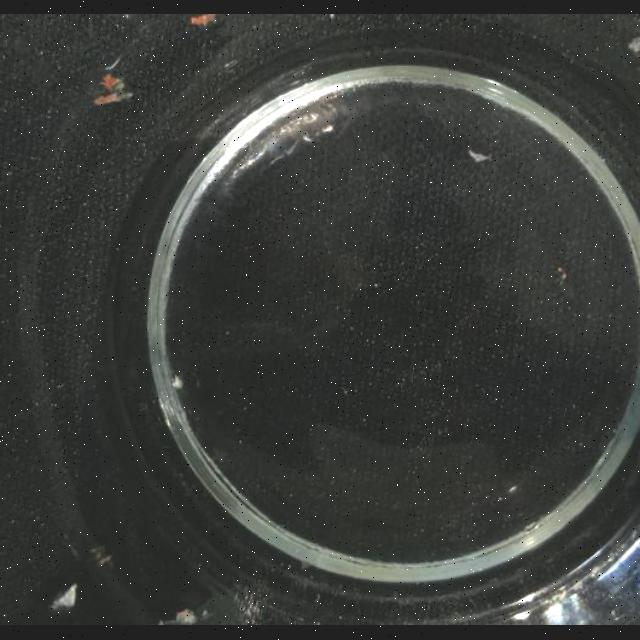Fibre: (170, 376, 183, 390)
Fragment: (95, 74, 132, 108), (192, 15, 224, 29)
